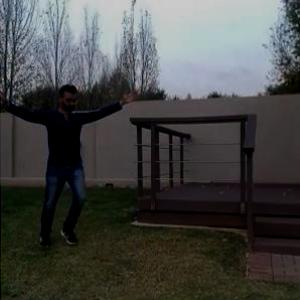takeoff: (2, 84, 145, 244)
